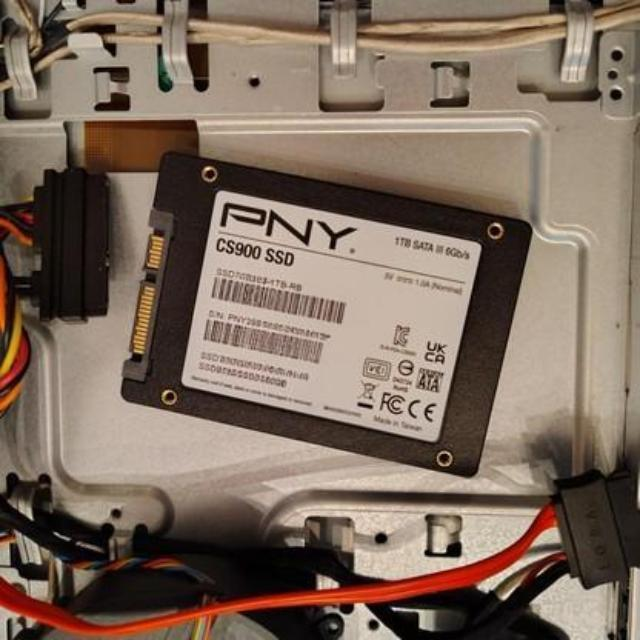DISK: (126, 144, 522, 492)
